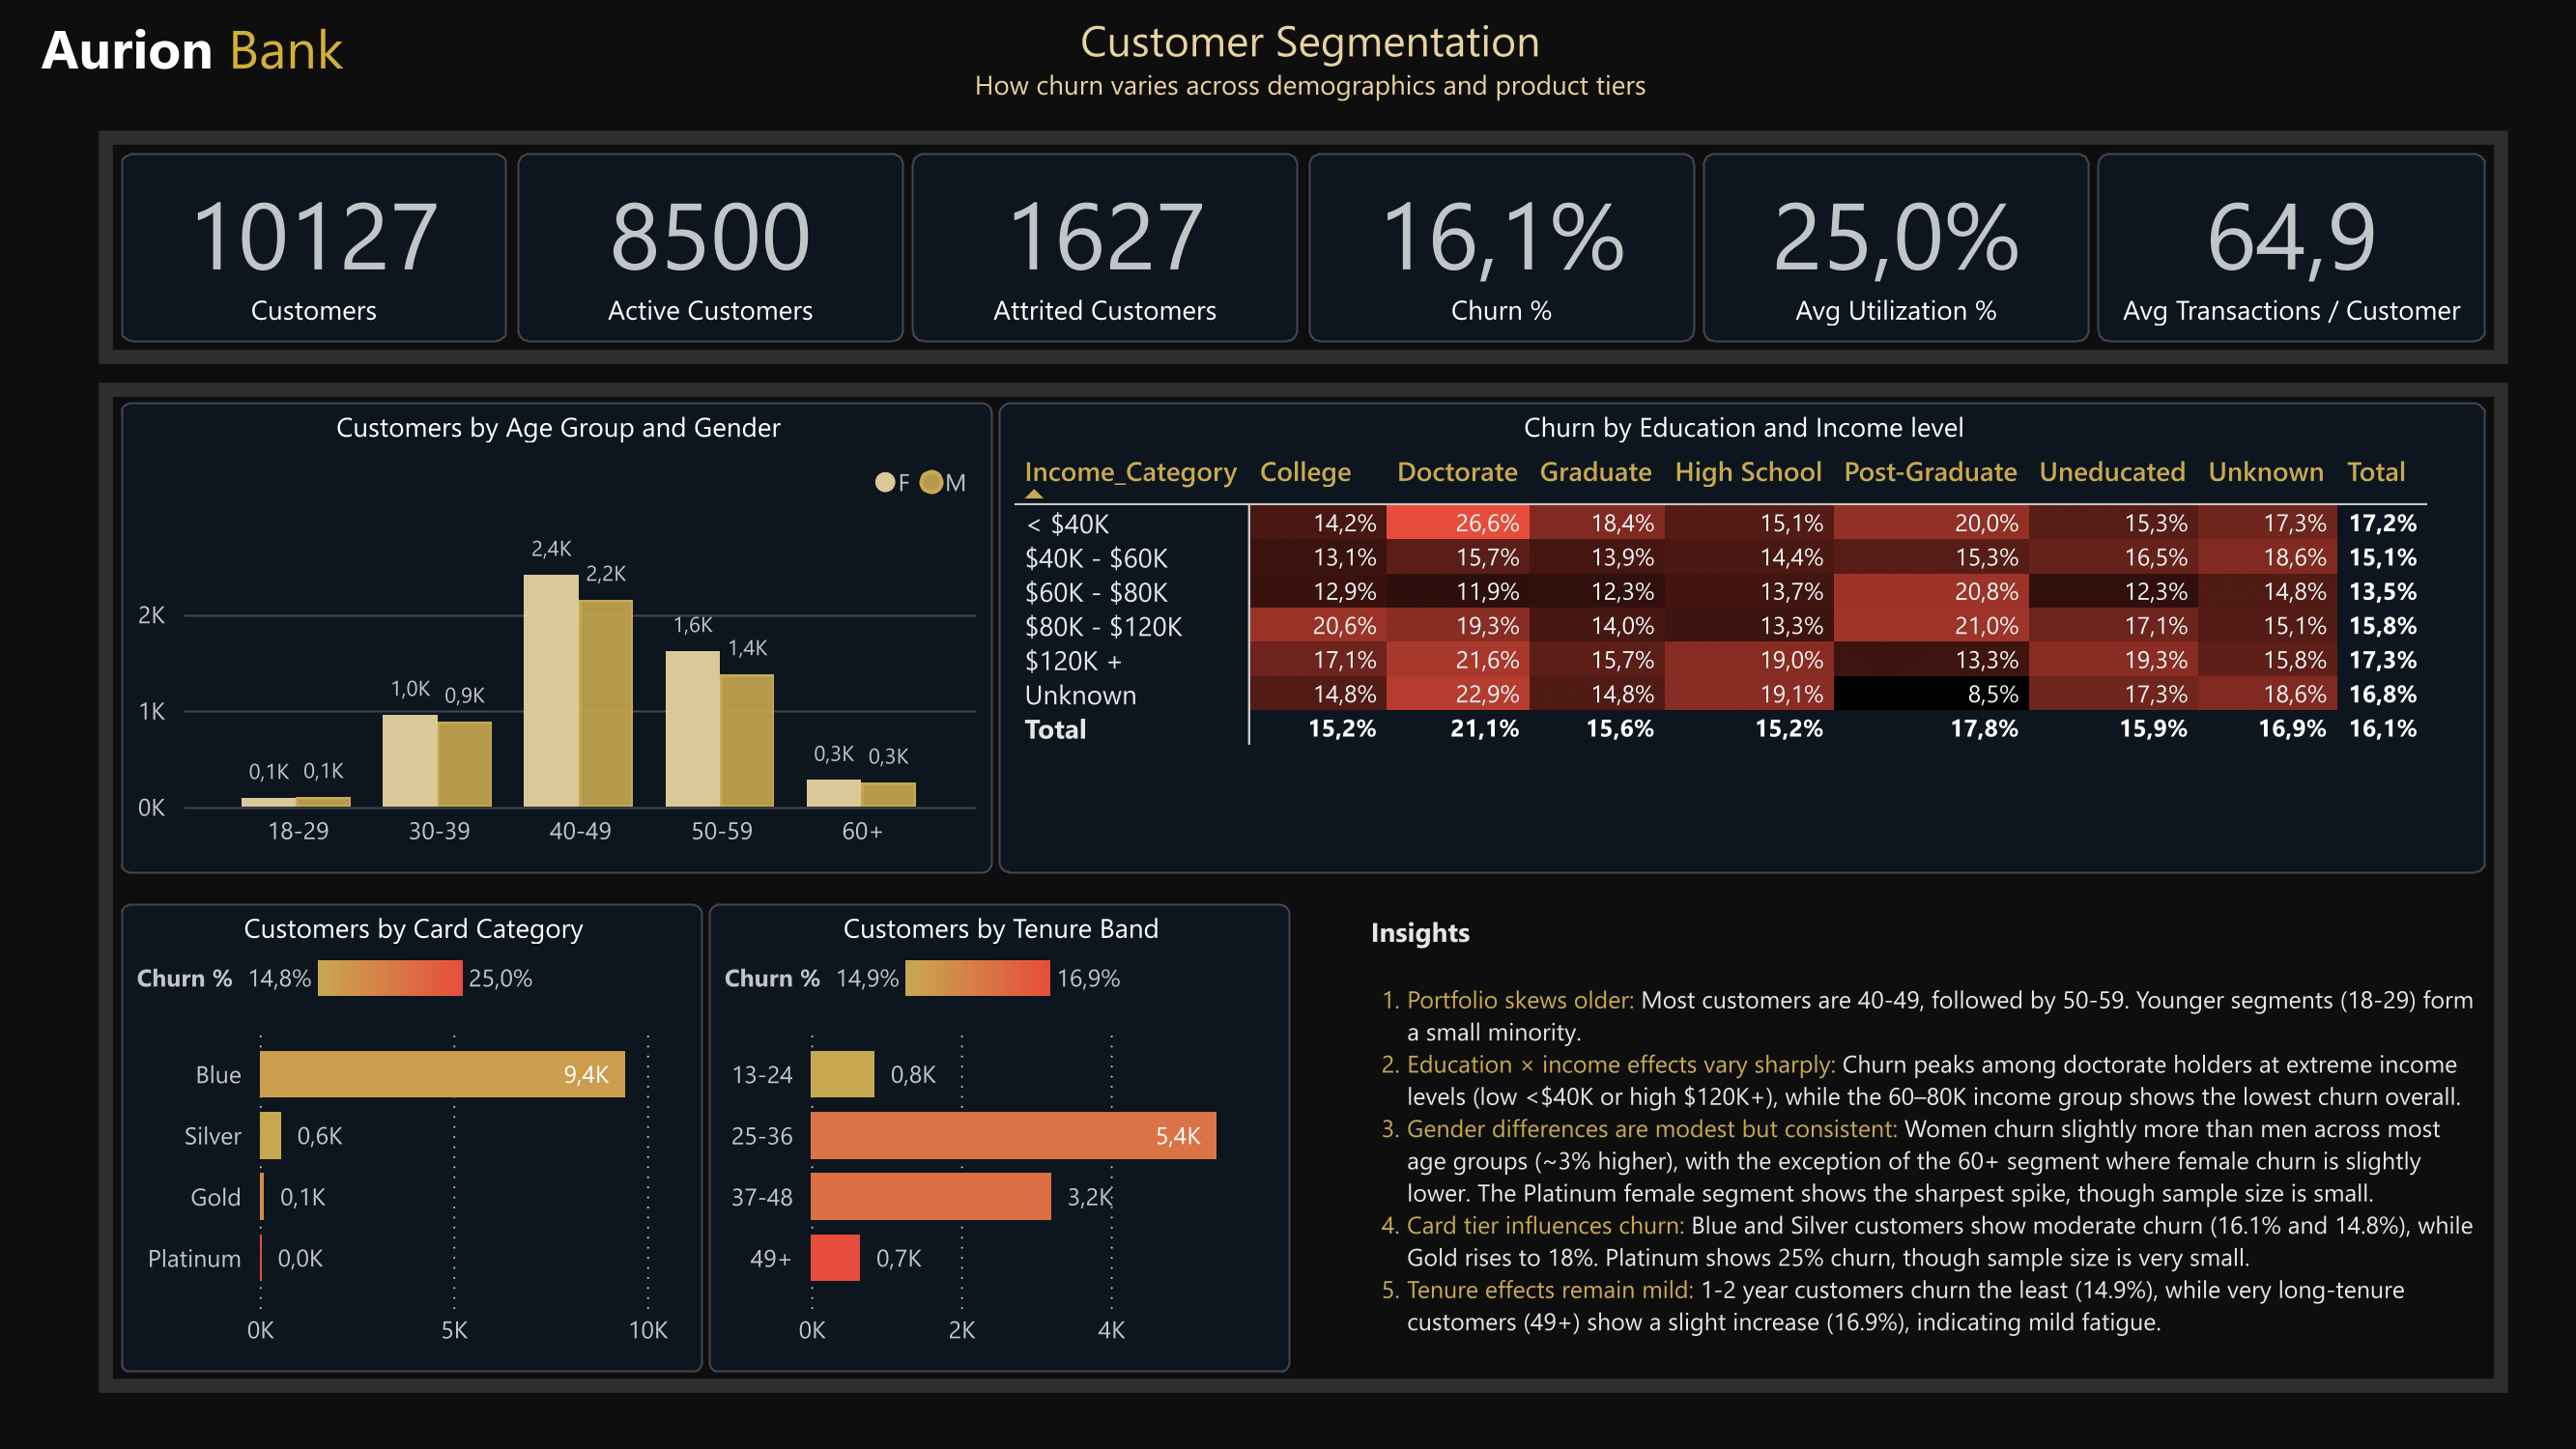

This screenshot's page, from the dashboard's own definition file:
{"tool":"powerbi","page":{"name":"Customer Segmentation","canvas":[1280,720],"ordinal":3},"visuals":[{"type":"textbox","box":[49.2,190,1197,503],"z":0},{"type":"textbox","box":[49.2,65,1197,116],"z":1000},{"type":"card","fields":{"Values":["MeasuresTable.Active Customers"]},"box":[257,75.7,192,94],"z":2000},{"type":"card","fields":{"Values":["MeasuresTable.Avg Transactions / Customer"]},"box":[1042,76,193,94],"z":3000},{"type":"card","fields":{"Values":["MeasuresTable.Churn %"]},"box":[650,75.7,192,94],"z":4000},{"type":"card","fields":{"Values":["MeasuresTable.Avg Utilization %"]},"box":[846,76,192,94],"z":5000},{"type":"clusteredColumnChart","title":"Customers by Age Group and Gender","fields":{"Category":["DimCustomer.Age Group"],"Y":["MeasuresTable.Customers"],"Series":["DimCustomer.Gender"]},"box":[59.9,201.2,433.1,235],"z":6000},{"type":"textbox","title":"KZ Logo","box":[0,0,191,52],"z":7000},{"type":"textbox","box":[676,448,559,245],"z":8000},{"type":"pivotTable","title":"Churn by Education and Income level","fields":{"Rows":["DimIncome.Income_Category"],"Columns":["DimCustomer.Education_Level"],"Values":["MeasuresTable.Churn %"]},"box":[495.8,201.2,739.3,235],"z":9000},{"type":"clusteredBarChart","title":"Customers by Card Category ","fields":{"Category":["DimCard.Card_Category"],"Y":["MeasuresTable.Customers"]},"box":[60,447,289,235],"z":10000},{"type":"card","fields":{"Values":["MeasuresTable.Attrited Customers"]},"box":[453,76,192,94],"z":11000},{"type":"card","fields":{"Values":["MeasuresTable.Customers"]},"box":[60.2,76,192,94],"z":12000},{"type":"clusteredBarChart","title":"Customers by Tenure Band","fields":{"Y":["MeasuresTable.Customers"],"Category":["FactCustomerStatus.Tenure_Band"]},"box":[352,447,289,235],"z":13000},{"type":"textbox","box":[408.2,0,485.8,64.5],"z":15000}]}

Visuals, with their boxes in screenshot pixels (x1, y1, x2, y2), scaled from the page's 1280x720 canvas onto the 2576x1449 screenshot:
textbox: bbox(99, 383, 2508, 1395)
textbox: bbox(99, 130, 2508, 364)
card - MeasuresTable.Active Customers: bbox(517, 153, 903, 342)
card - MeasuresTable.Avg Transactions / Customer: bbox(2097, 153, 2485, 342)
card - MeasuresTable.Churn %: bbox(1308, 153, 1695, 342)
card - MeasuresTable.Avg Utilization %: bbox(1703, 153, 2089, 342)
"Customers by Age Group and Gender" clusteredColumnChart: bbox(121, 405, 992, 878)
"KZ Logo" textbox: bbox(0, 0, 385, 104)
textbox: bbox(1360, 901, 2485, 1395)
"Churn by Education and Income level" pivotTable: bbox(998, 405, 2485, 878)
"Customers by Card Category " clusteredBarChart: bbox(121, 899, 702, 1373)
card - MeasuresTable.Attrited Customers: bbox(912, 153, 1298, 342)
card - MeasuresTable.Customers: bbox(121, 153, 507, 342)
"Customers by Tenure Band" clusteredBarChart: bbox(708, 899, 1290, 1373)
textbox: bbox(821, 0, 1799, 129)
